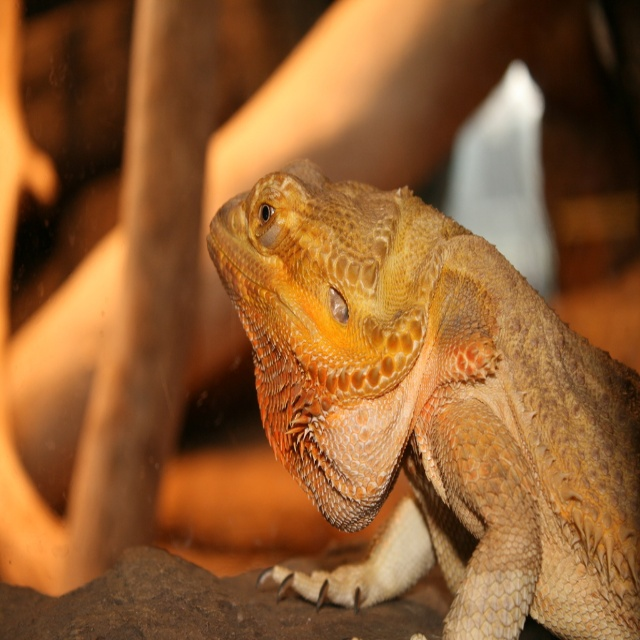Lizard: (210, 153, 626, 638)
